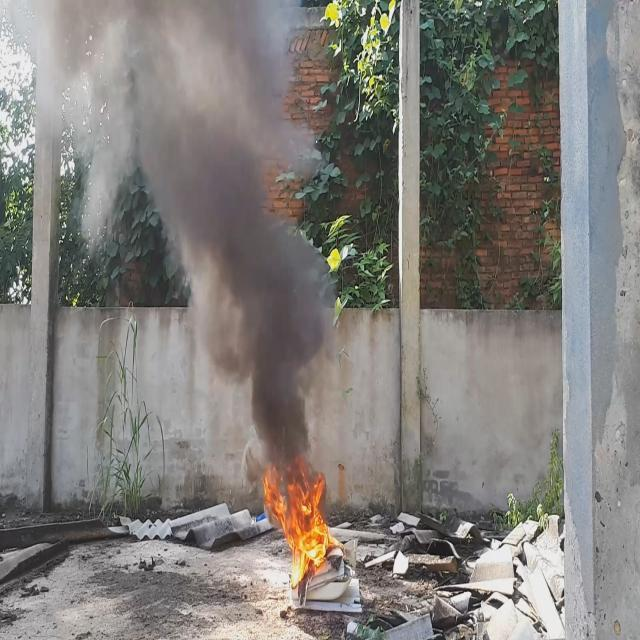Fire: (263, 454, 338, 586)
Smoke: (0, 0, 335, 490)
